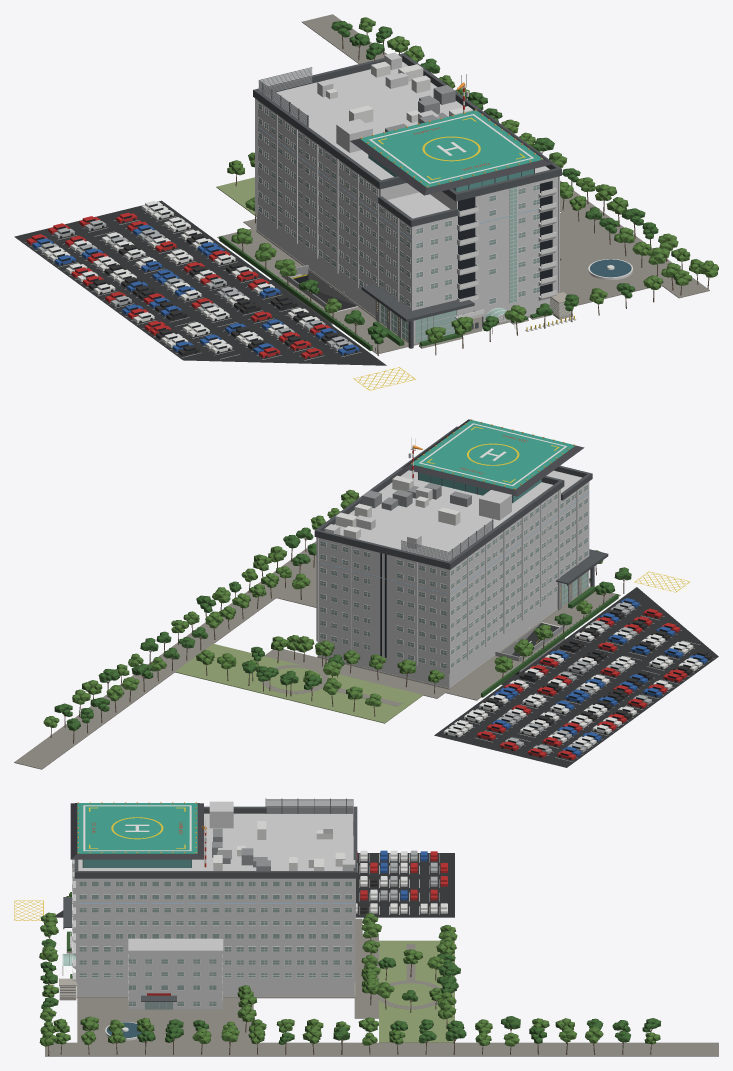
File: taipei-eoc-core.glb
3 renders of one model, top to bottom at view 1: azimuth 30°, elevation 25°; view 2: azimuth 150°, elevation 25°; view 3: azimuth 270°, elevation 25°, orthographic. The views are drawn at different scales.
Parts seen in each view (by area): view 1: EOC building, EOC parking lot, EOC site paving, EOC helipad deck, EOC top storey, EOC helipad safety net, EOC basement ramp, EOC parking bays, EOC fountain, EOC hedges; view 2: EOC building, EOC site paving, EOC parking lot, EOC helipad deck, EOC top storey, EOC helipad safety net, EOC north park paths, EOC basement ramp, EOC parking bays; view 3: EOC building, EOC site paving, EOC east wing, EOC helipad deck, EOC parking lot, EOC top storey, EOC helipad safety net, EOC north park paths.
Part boxes in pixels (x1=…): EOC building: x1=253, y1=53, x2=561, y2=345; EOC parking lot: x1=14, y1=200, x2=386, y2=365; EOC site paving: x1=216, y1=14, x2=709, y2=354; EOC helipad deck: x1=359, y1=110, x2=543, y2=187; EOC top storey: x1=317, y1=52, x2=534, y2=192; EOC helipad safety net: x1=350, y1=109, x2=552, y2=195; EOC basement ramp: x1=270, y1=265, x2=358, y2=325; EOC parking bays: x1=25, y1=212, x2=361, y2=360; EOC fountain: x1=588, y1=259, x2=633, y2=280; EOC hedges: x1=373, y1=311, x2=553, y2=348; EOC building: x1=314, y1=426, x2=608, y2=689; EOC site paving: x1=14, y1=541, x2=620, y2=769; EOC parking lot: x1=434, y1=587, x2=718, y2=767; EOC helipad deck: x1=410, y1=420, x2=575, y2=489; EOC top storey: x1=324, y1=472, x2=541, y2=548; EOC helipad safety net: x1=402, y1=419, x2=584, y2=496; EOC north park paths: x1=261, y1=665, x2=401, y2=706; EOC basement ramp: x1=495, y1=622, x2=564, y2=684; EOC parking bays: x1=462, y1=605, x2=713, y2=761; EOC building: x1=63, y1=798, x2=357, y2=998; EOC site paving: x1=45, y1=918, x2=718, y2=1056; EOC east wing: x1=128, y1=938, x2=223, y2=1009; EOC helipad deck: x1=77, y1=803, x2=197, y2=853; EOC parking lot: x1=56, y1=853, x2=454, y2=917; EOC top storey: x1=82, y1=801, x2=355, y2=870; EOC helipad safety net: x1=70, y1=803, x2=203, y2=859; EOC north park paths: x1=377, y1=944, x2=440, y2=1009.
Size of the model in its own units: 123 by 50.2 by 176.
